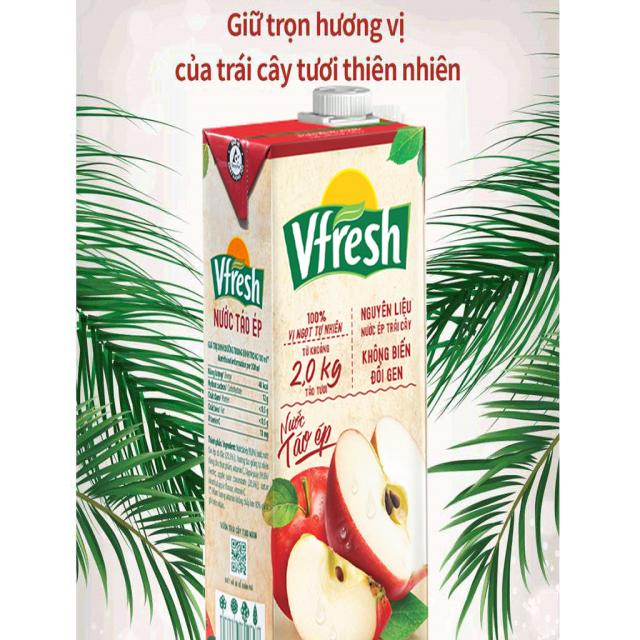non_white_jug: (199, 69, 433, 640)
